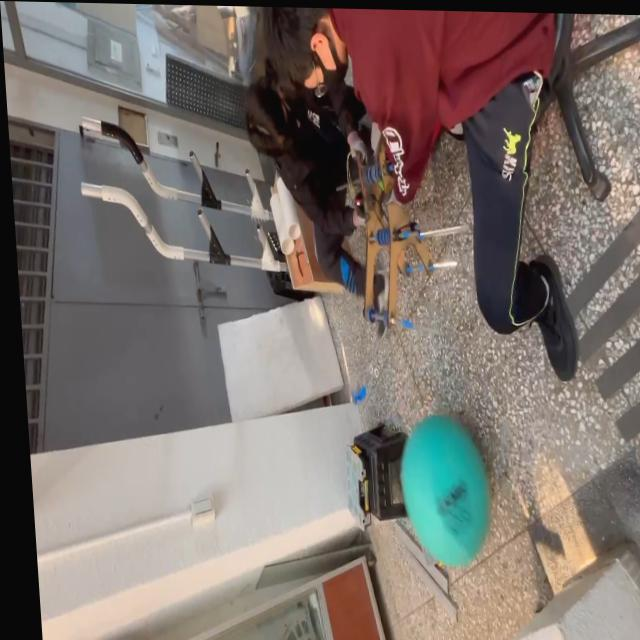ALGAE: (395, 412, 497, 570)
